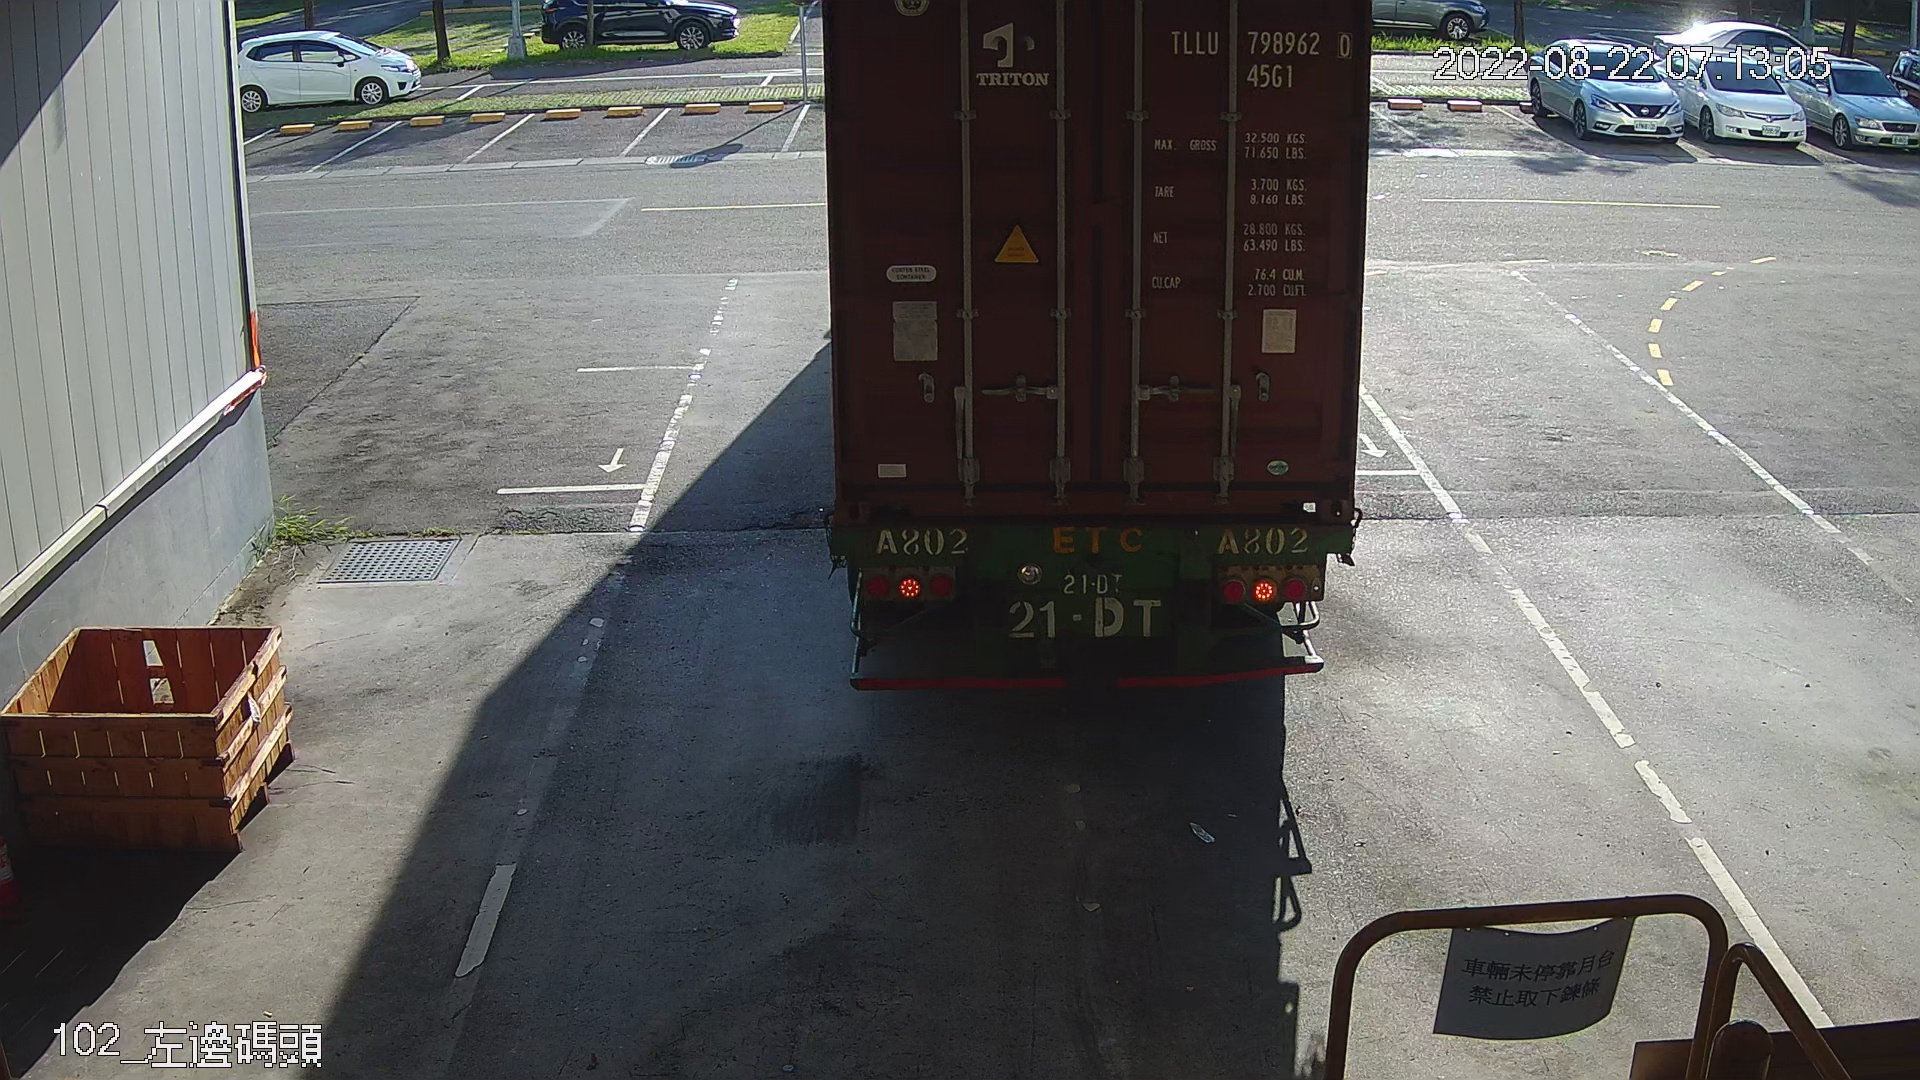container: (1160, 16, 1362, 102)
